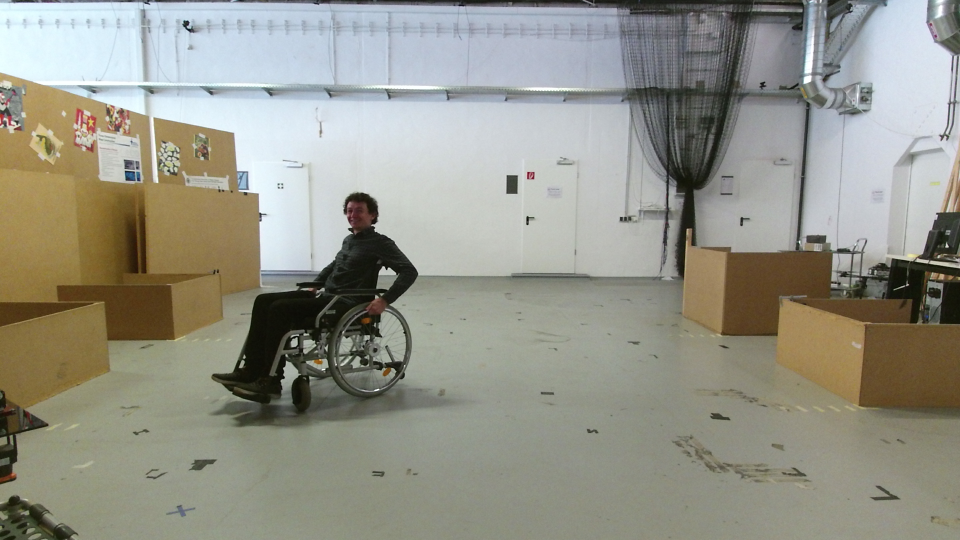wheelchair: (205, 184, 430, 413)
